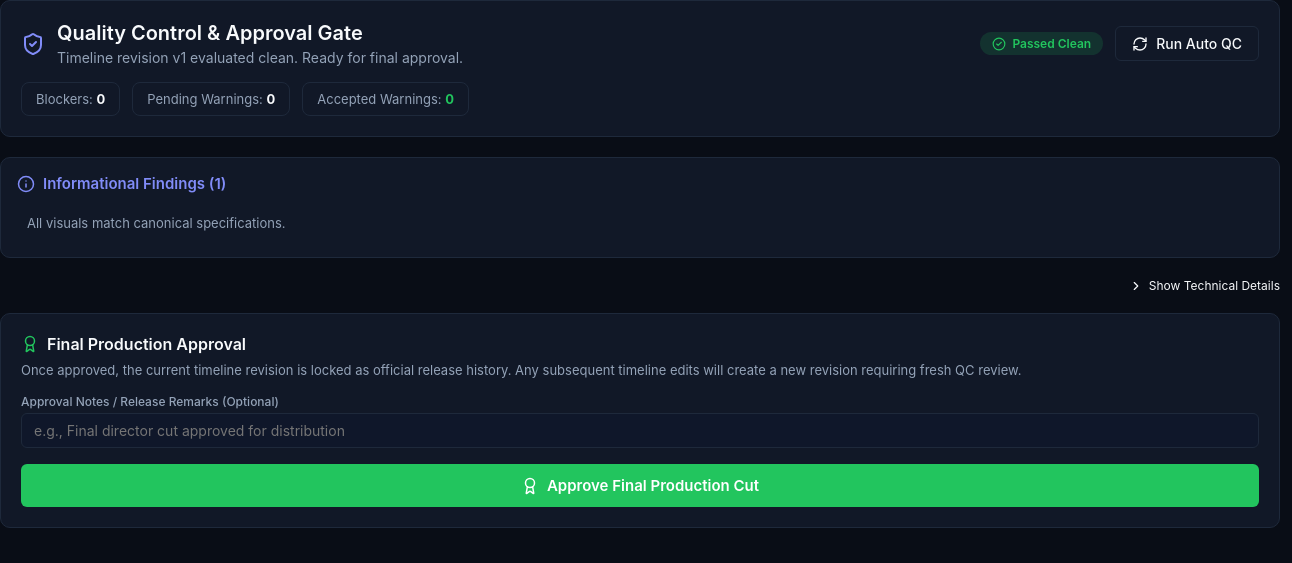
Test: SimpleQCReview Component › Test 17: Default simple UX hides technical details/IDs and shows clean status summary
Expected: the heading "Quality Control & Approval Gate" is shown, [57,21,363,45]
Expected: the text "Timeline revision v1 evaluated clean. Ready for final approval." is shown, [57,49,463,66]
# Expand technical details
Click the button with test id "toggle-tech-details" at (1204, 286), box [1129,278,1280,293]
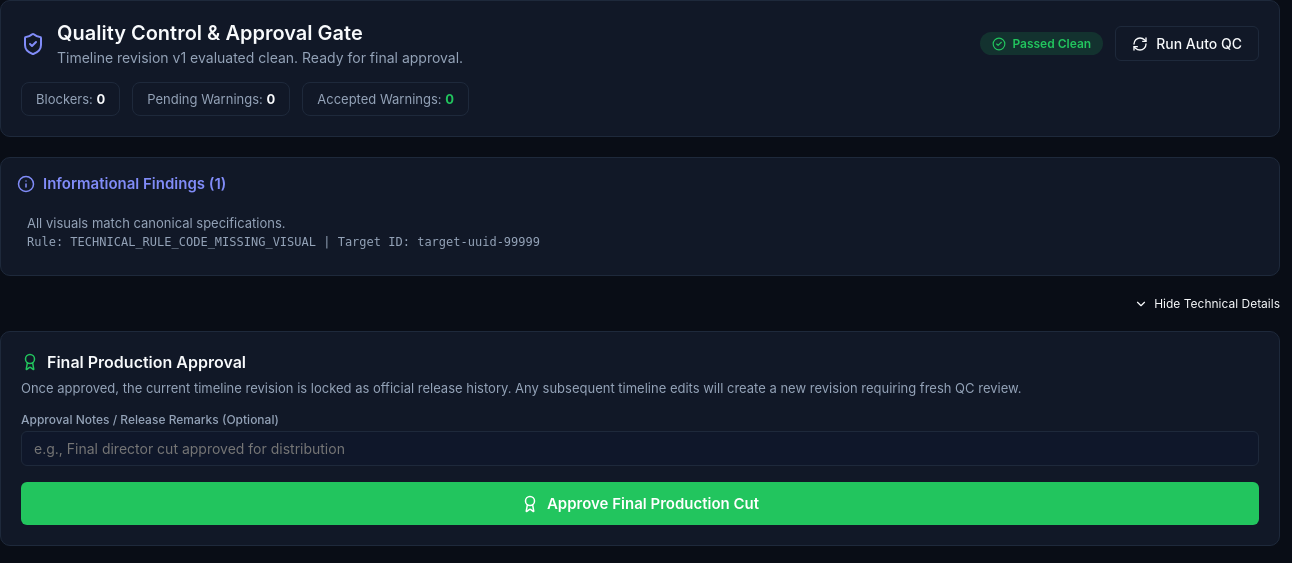
Expected: the text "Rule: TECHNICAL_RULE_CODE_MISSING_VISUAL" is shown, [27,235,540,249]
